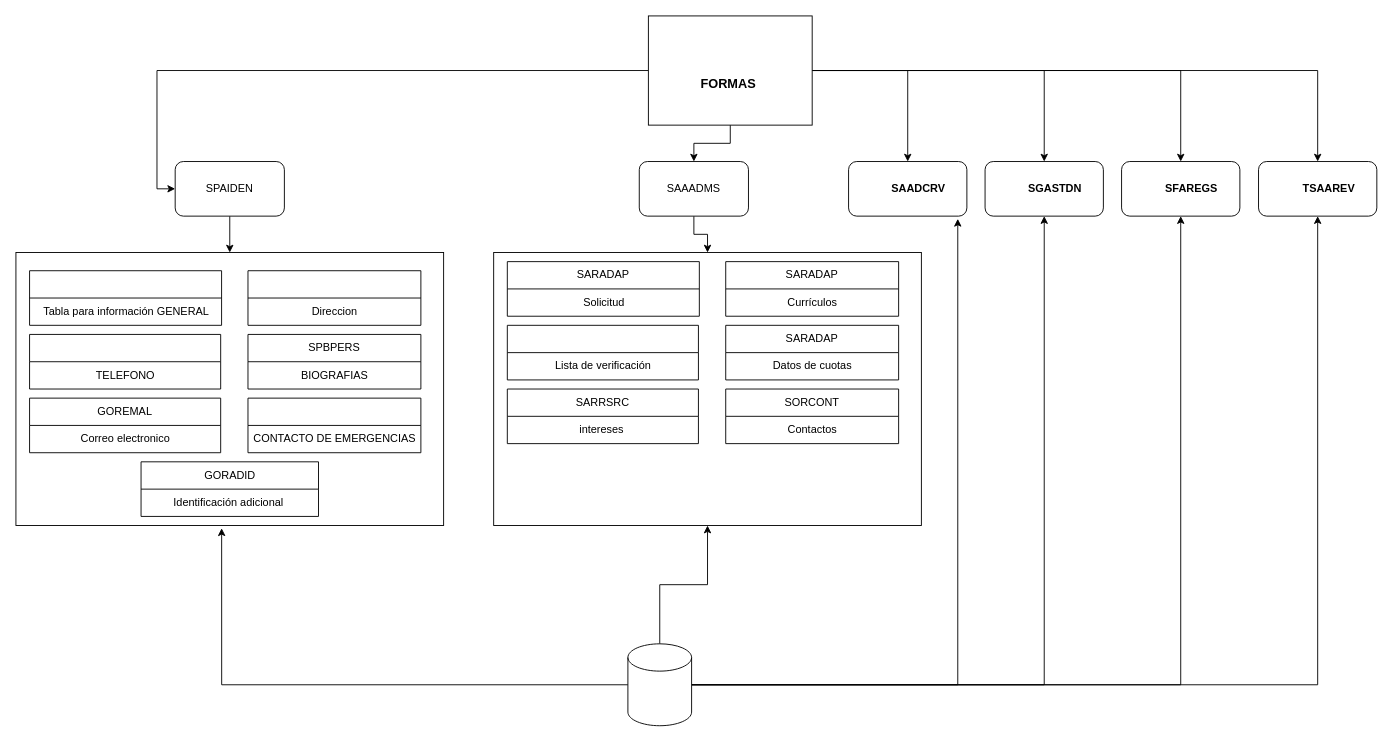
Some shapes in this 1393 by 742 pixel diagram are drawn without their labels. The shapes that lost their labels are listed below. From the top down, each one's box as (x1, y1, x2, y2) in pixels, then its label:
(647, 15, 812, 125): Sistema Banner
(29, 270, 222, 325): SPRIDEN
(247, 270, 421, 325): SPRADDR
(29, 334, 221, 389): SPRTELE
(506, 324, 698, 380): SARCHKL
(247, 397, 421, 453): SPREMRG
(627, 643, 692, 726): DB BANNER
